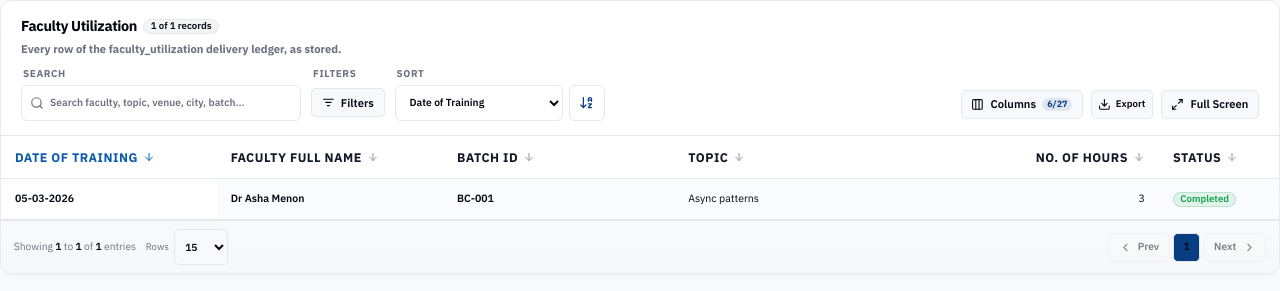
FacultyUtilizationView column visibility › keeps header and body cells 1:1 when a visible column is switched off
Expected: the number of column headings is 6, left=1, top=136, right=217, bottom=179; left=217, top=136, right=443, bottom=179; left=443, top=136, right=674, bottom=179; left=674, top=136, right=983, bottom=179; left=983, top=136, right=1159, bottom=179; left=1159, top=136, right=1279, bottom=179
Click the button "Columns 6/27": (1022, 104) left=961, top=90, right=1083, bottom=119
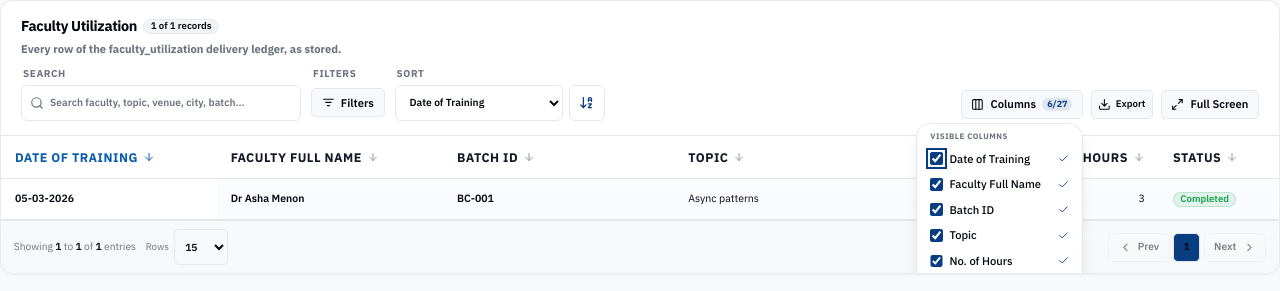
Click the checkbox labelled "Topic": (937, 235) left=930, top=229, right=943, bottom=242
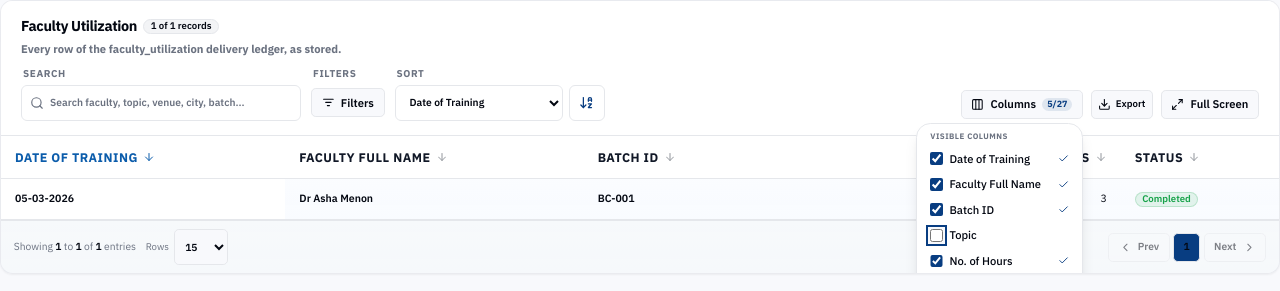
Now the number of column headings is 5, box left=1, top=136, right=285, bottom=179; left=285, top=136, right=584, bottom=179; left=584, top=136, right=888, bottom=179; left=888, top=136, right=1121, bottom=179; left=1121, top=136, right=1279, bottom=179
